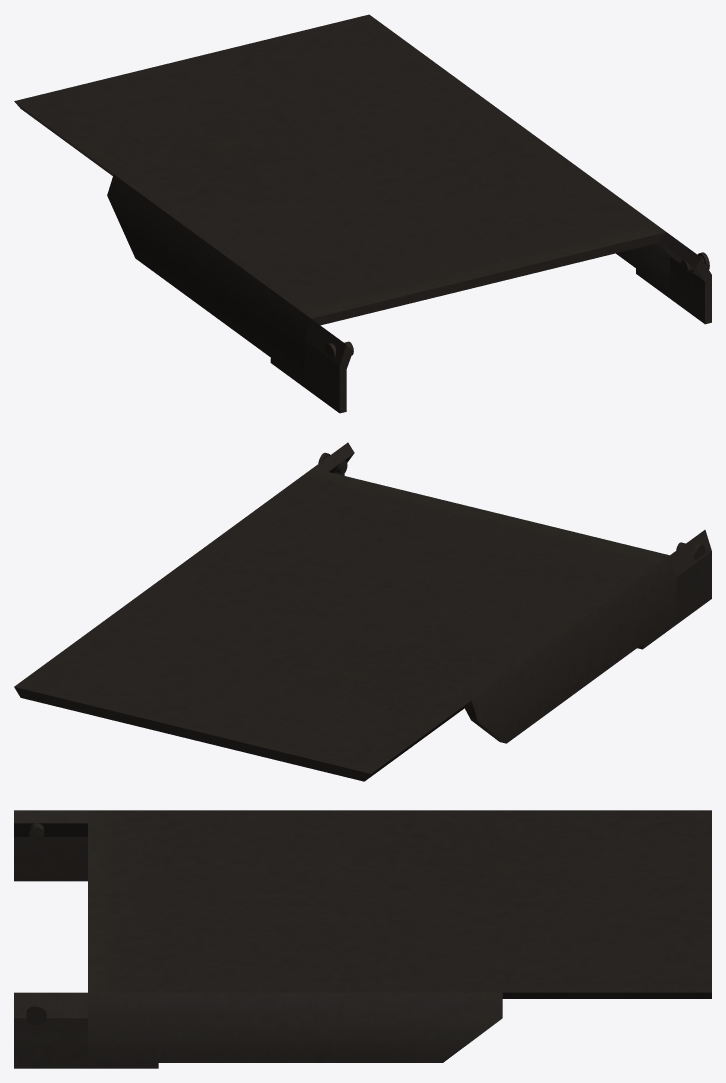
Rendered from hatch_tyag.fbx.
3 views of the same model, one above another, from view 1: azimuth 30°, elevation 25°; view 2: azimuth 150°, elevation 25°; view 3: azimuth 270°, elevation 25° (orthographic). The views are drawn at different scales.
Parts seen in each view (by area): view 1: hatch_tyag; view 2: hatch_tyag; view 3: hatch_tyag.
Boxes of the visible parts, x1=… form: hatch_tyag: x1=14, y1=14, x2=711, y2=413; hatch_tyag: x1=14, y1=442, x2=711, y2=781; hatch_tyag: x1=14, y1=810, x2=711, y2=1068.
Size of the model in its own units: 0.2182 by 0.0374 by 0.3341.
